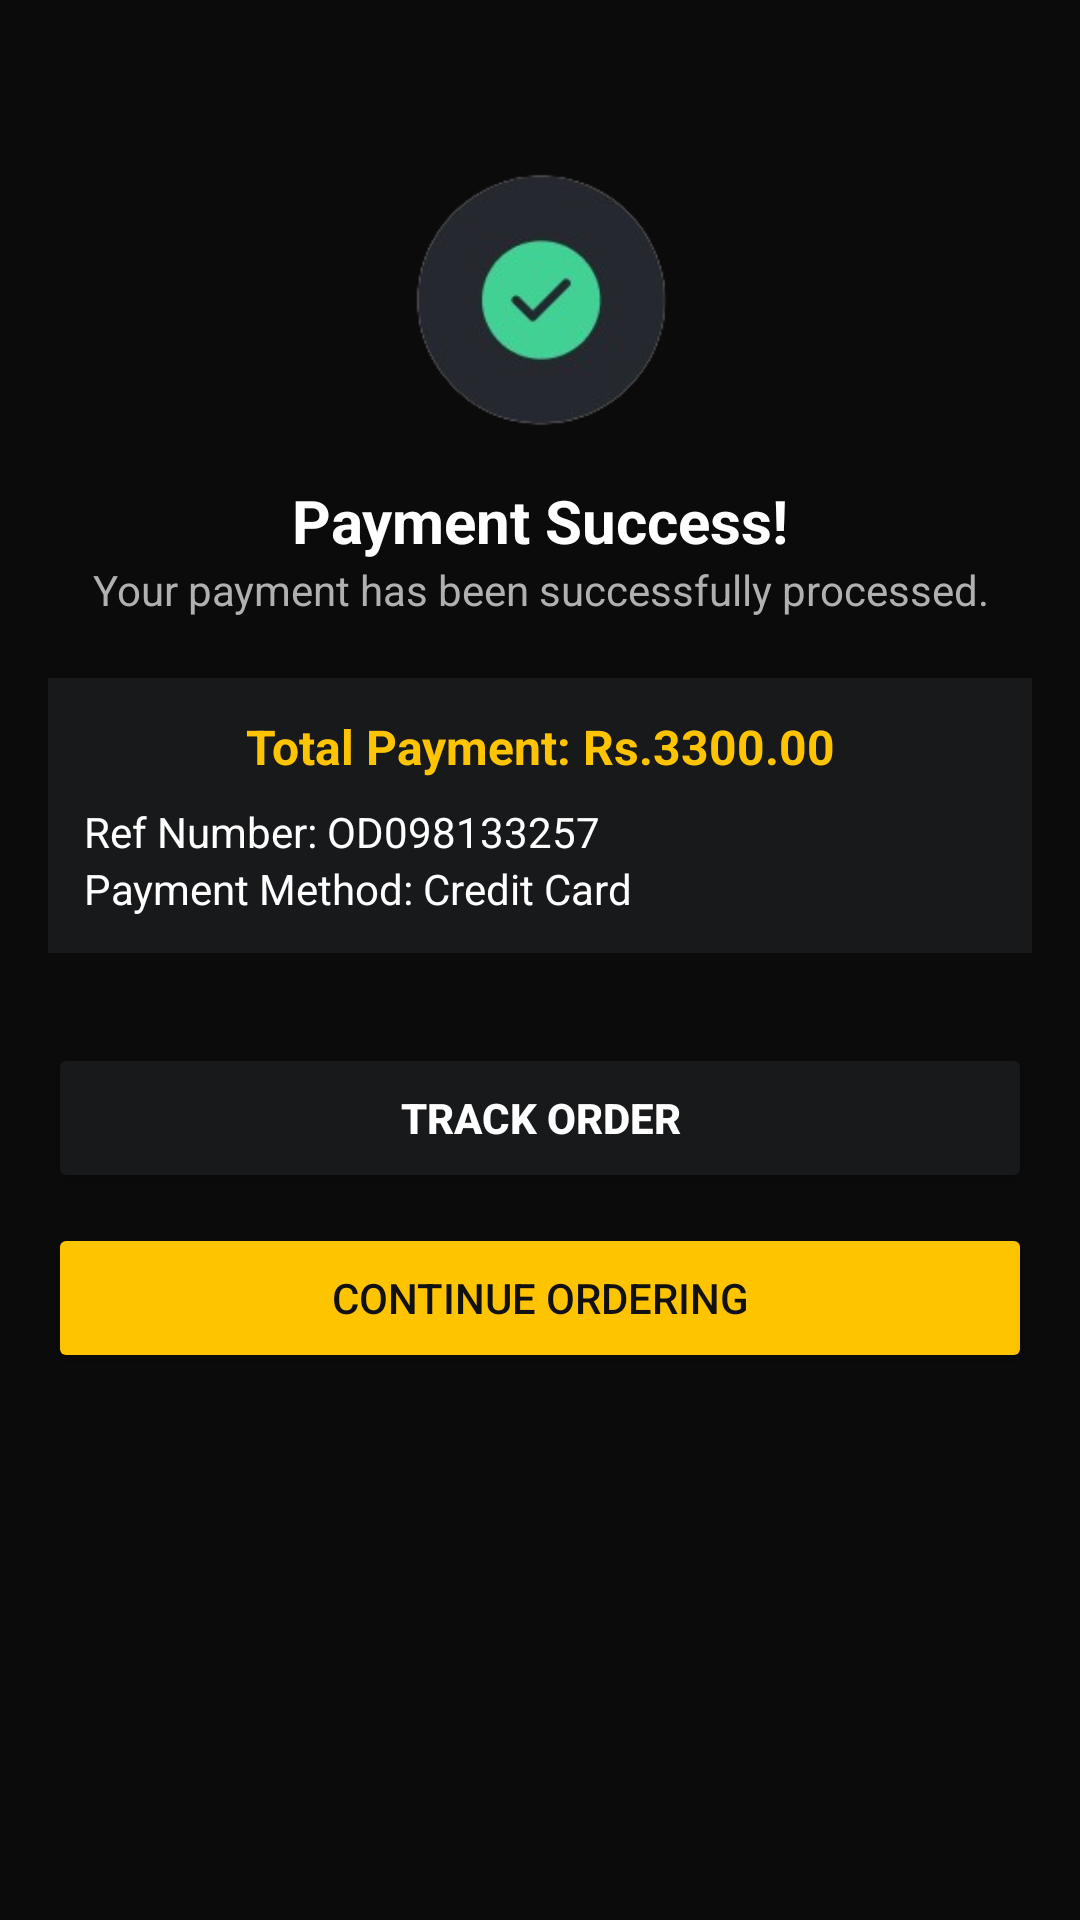

Point at icon controls on the screen. Image size 1080*1920, points as (x=x, y=y).
done: (x=541, y=300)
